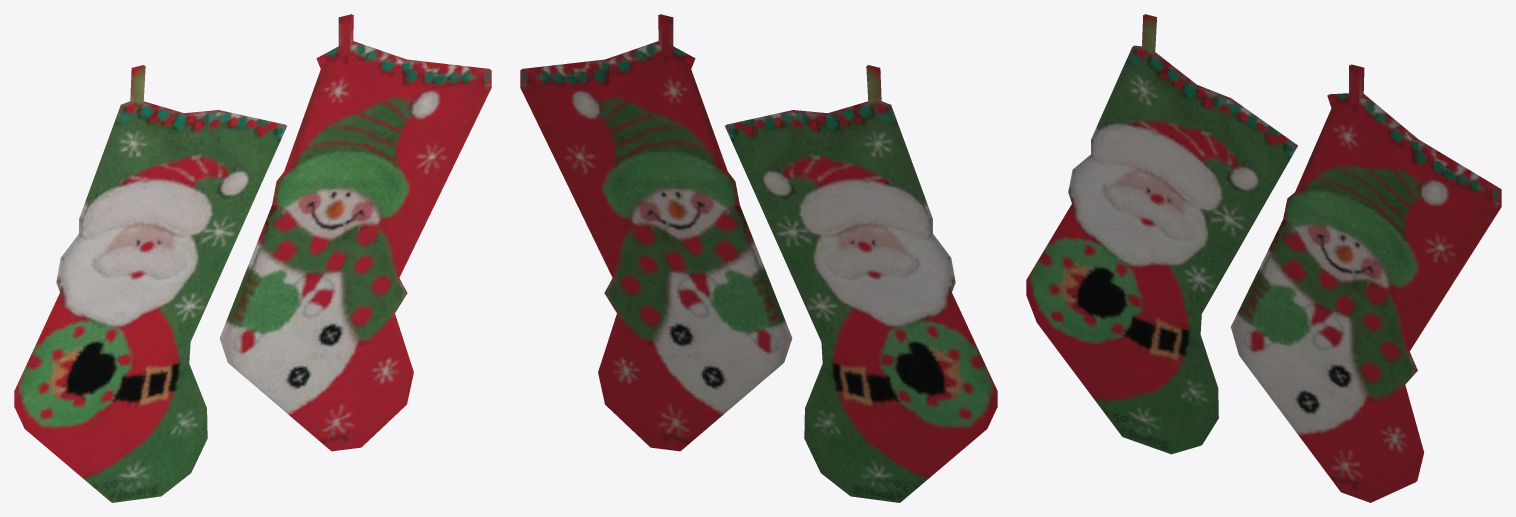
File: furni_0200212.FBX
3 views of the same model, side by side, from view 1: azimuth 30°, elevation 25°; view 2: azimuth 150°, elevation 25°; view 3: azimuth 330°, elevation 25° (orthographic).
Parts seen in each view (by area): view 1: furni_0200212; view 2: furni_0200212; view 3: furni_0200212.
Part boxes in pixels (x1,y1,x2,y2): furni_0200212: (14,14,491,502); furni_0200212: (520,14,997,502); furni_0200212: (1026,14,1501,502).
Size of the model in its own units: 85.88 by 74.91 by 0.4327.
Materials: 1 (1 with a texture image).
